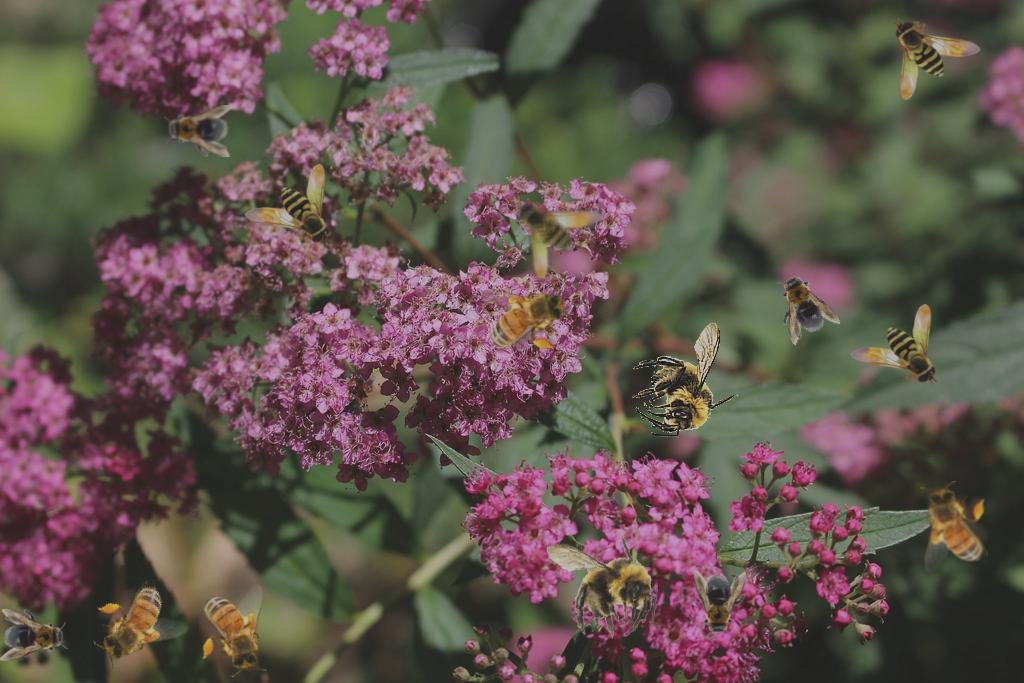Bee: (537, 524, 664, 643), (632, 322, 739, 437), (79, 573, 193, 674), (512, 184, 616, 284), (893, 18, 981, 100), (850, 304, 938, 386), (244, 164, 332, 246), (763, 262, 841, 348), (479, 285, 572, 353), (920, 481, 988, 574), (199, 584, 267, 677), (694, 570, 746, 638), (164, 105, 232, 157), (0, 609, 68, 661)
